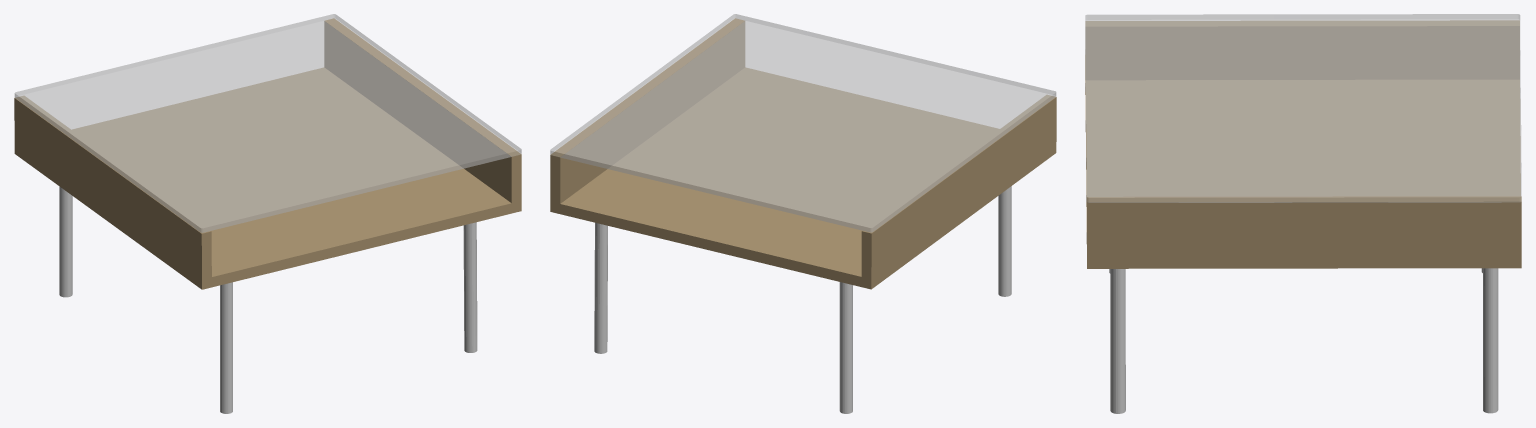
Rendered from IKEA-Magiker_Coffee_Table-3D.obj.
3 renders of one model, left to right at view 1: azimuth 30°, elevation 25°; view 2: azimuth 150°, elevation 25°; view 3: azimuth 270°, elevation 25°, orthographic. The views are drawn at different scales.
Parts seen in each view (by area): view 1: Layer_0; view 2: Layer_0; view 3: Layer_0.
Part boxes in pixels (left/top/right/bottom): Layer_0: left=14, top=14, right=521, bottom=413; Layer_0: left=550, top=14, right=1056, bottom=413; Layer_0: left=1085, top=14, right=1521, bottom=413.
Bounding box in the file's own units: 751 × 449 × 754.
